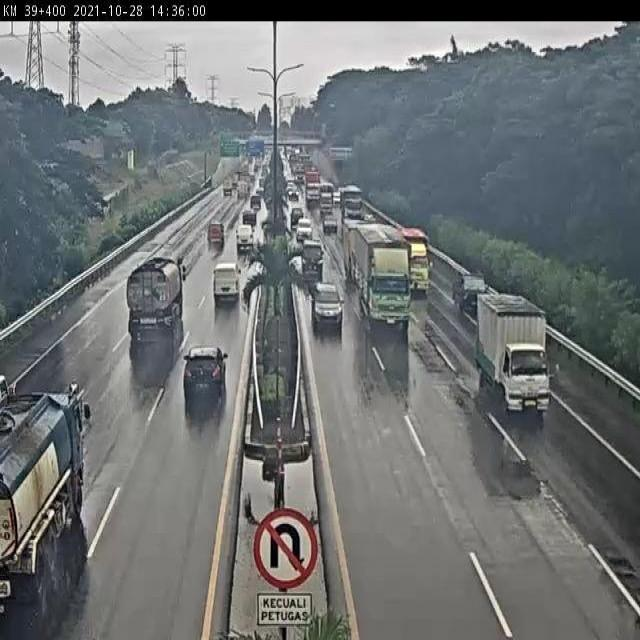big truck: (0, 389, 91, 607), (352, 228, 416, 324), (133, 260, 180, 359)
car: (179, 337, 232, 407), (211, 260, 242, 321), (311, 272, 343, 325), (456, 267, 482, 316), (405, 242, 431, 290), (296, 241, 329, 276), (208, 222, 223, 258), (242, 232, 258, 261), (322, 213, 339, 231), (243, 210, 257, 226), (301, 218, 309, 238), (294, 207, 302, 221)
small truck: (475, 293, 549, 412)
